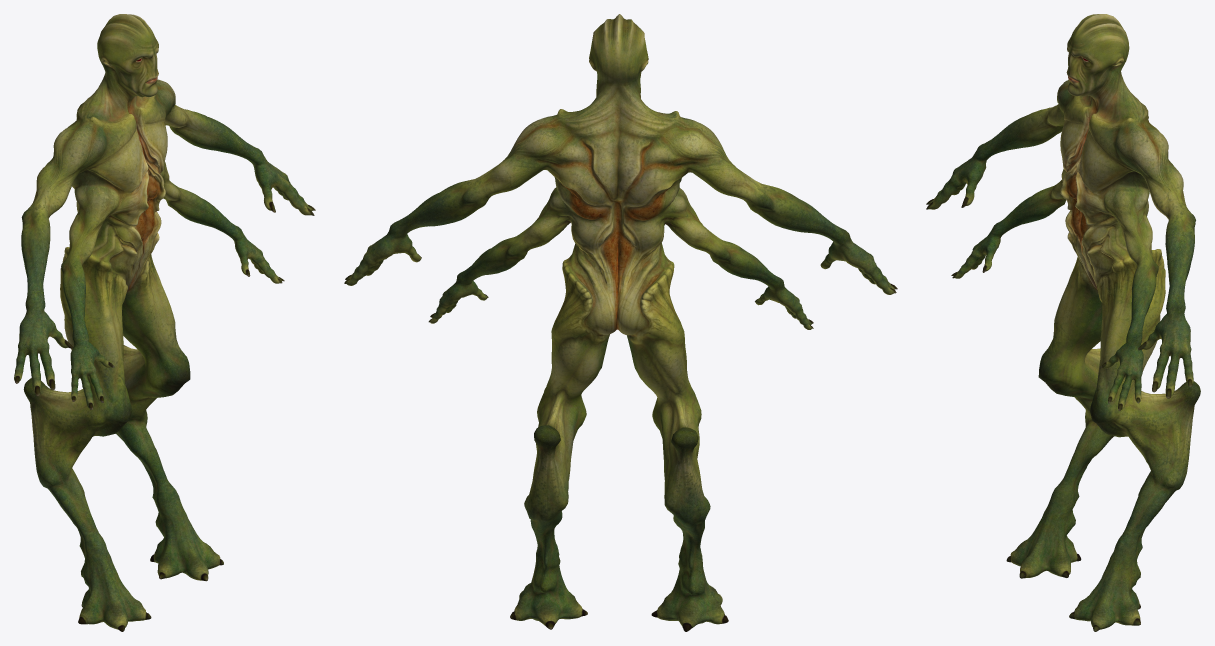
3 renders of one model, left to right at view 1: azimuth 30°, elevation 25°; view 2: azimuth 150°, elevation 25°; view 3: azimuth 270°, elevation 25°, orthographic. The views are drawn at different scales.
Visible parts, largest first — view 1: body_LOD1; view 2: body_LOD1; view 3: body_LOD1.
Boxes of the visible parts, x1,y1,x2,y2 form: body_LOD1: (14,14,315,631); body_LOD1: (344,14,897,631); body_LOD1: (926,14,1200,631).
Size of the model in its own units: 1.42 by 1.9 by 0.8251.
3 materials, 1 textured.
